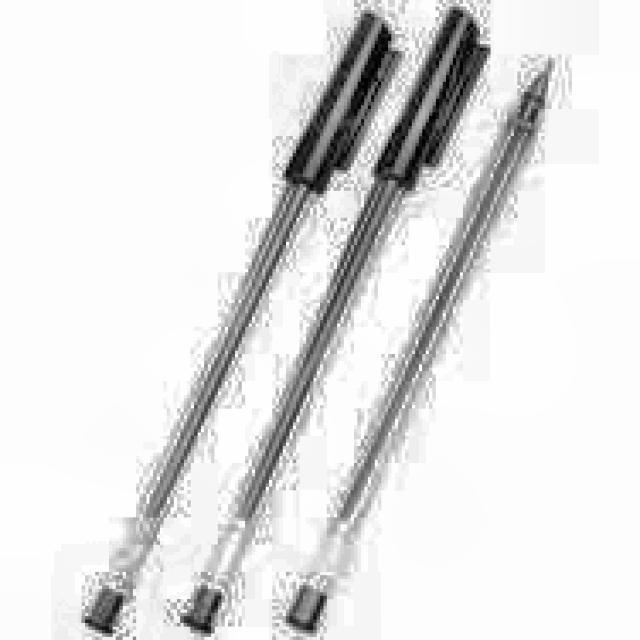Pen: (80, 9, 400, 639), (183, 6, 494, 635), (284, 56, 557, 636)
